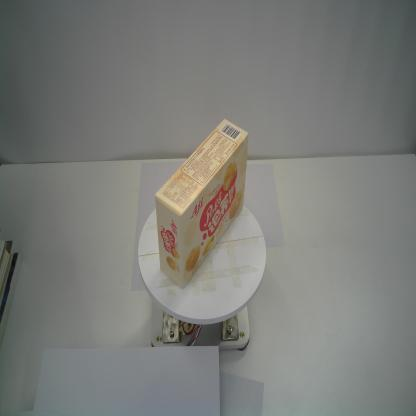Dessert: (154, 118, 249, 290)
